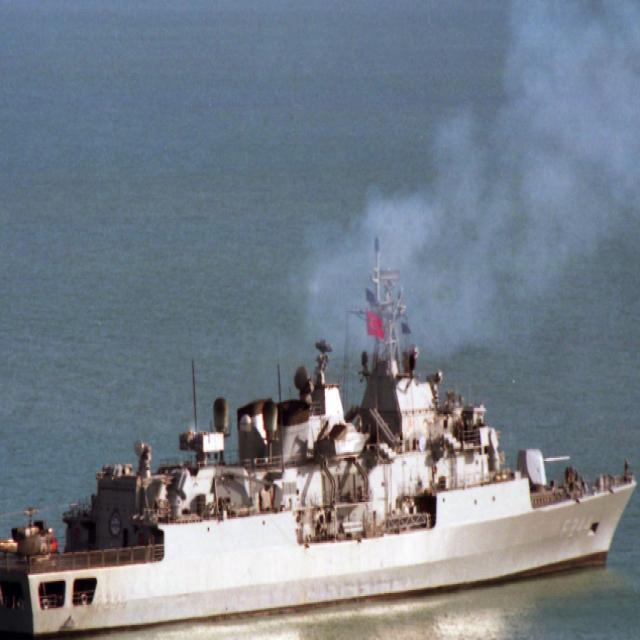Fragata: (1, 240, 638, 640)
